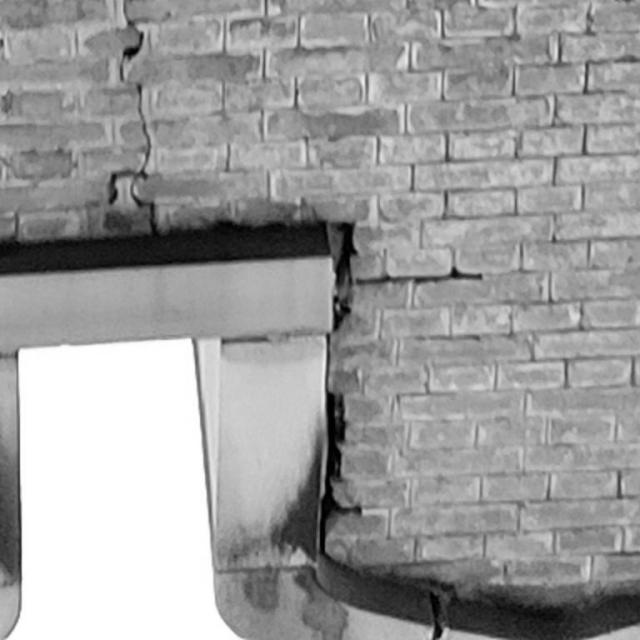crack: (312, 208, 483, 606), (108, 1, 160, 236)
